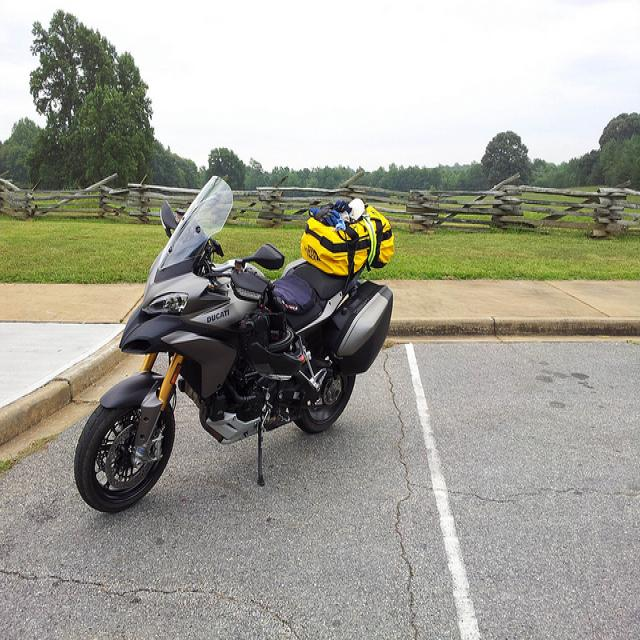motor: (74, 177, 395, 508)
